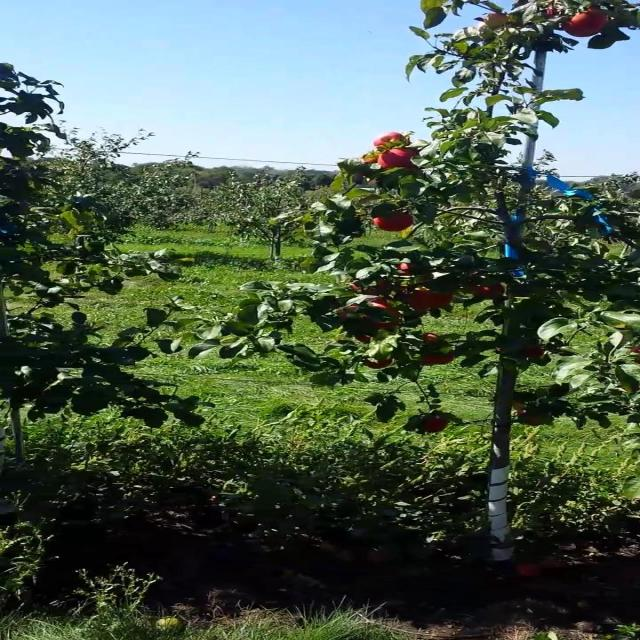apple: (561, 8, 612, 40), (412, 288, 457, 312), (383, 148, 423, 173), (369, 212, 418, 232), (369, 304, 405, 331), (390, 260, 432, 280), (348, 276, 391, 295), (419, 348, 459, 368), (511, 344, 551, 363), (369, 132, 411, 150), (468, 284, 507, 303), (333, 304, 368, 324), (483, 12, 514, 31), (419, 416, 452, 433), (362, 356, 396, 371), (589, 36, 619, 52), (525, 412, 553, 428), (419, 332, 448, 347), (348, 332, 379, 345), (547, 4, 571, 20), (362, 152, 382, 167), (511, 404, 532, 417)
